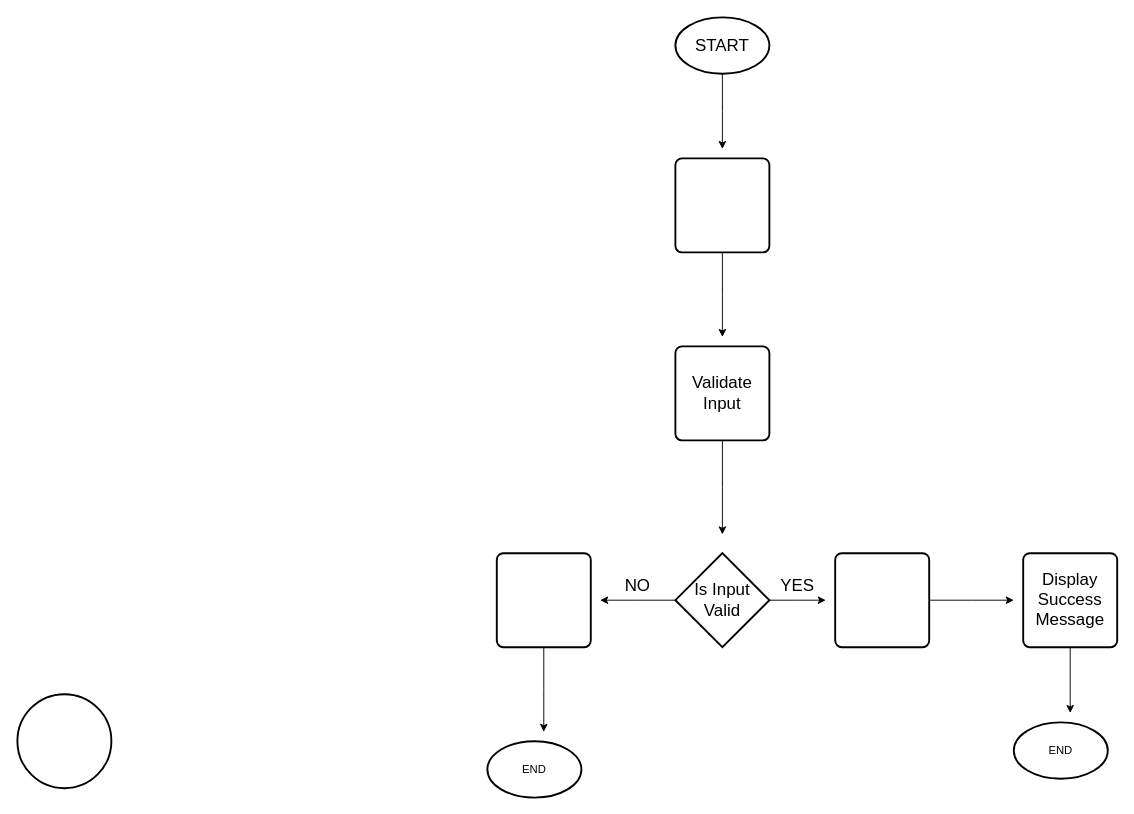
Some shapes in this 1134 by 814 pixel diagram are drawn without their labels. Each missing label, with the box of its shape:
Enter Task Details: (674, 157, 770, 253)
Save Task: (834, 552, 930, 648)
Show Error Message: (495, 552, 591, 648)
